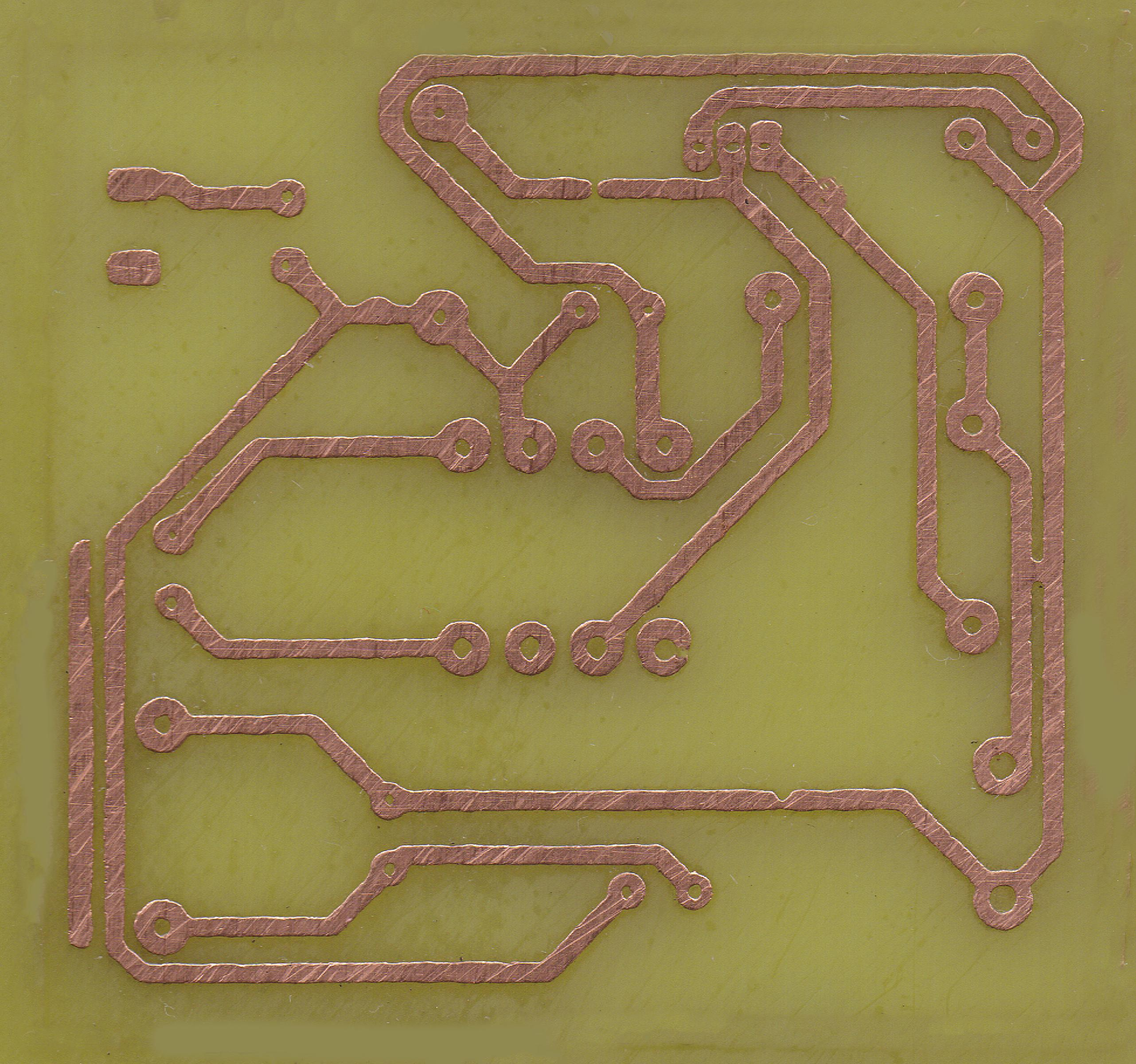missing_hole: (635, 617, 694, 678)
mouse_bite: (761, 788, 798, 809)
open_circuit: (573, 179, 623, 199)
short: (1011, 551, 1061, 591)
spur: (356, 293, 402, 325), (814, 175, 852, 208)
spurious_copper: (68, 532, 98, 959)
